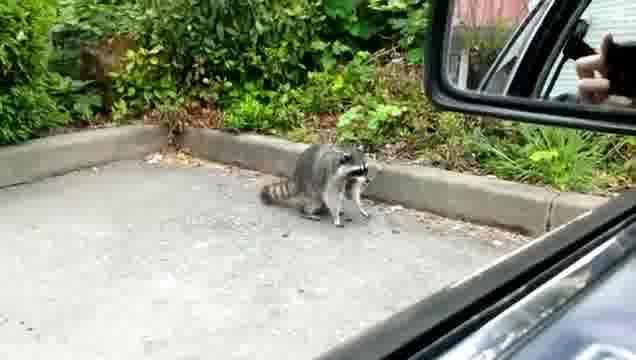raccoon: (258, 136, 378, 230)
